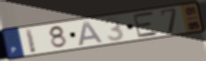3: (104, 16, 126, 42)
7: (159, 7, 180, 35)
8: (48, 25, 68, 50)
A: (77, 20, 105, 47)
E: (132, 11, 160, 39)
I: (23, 27, 38, 55)
